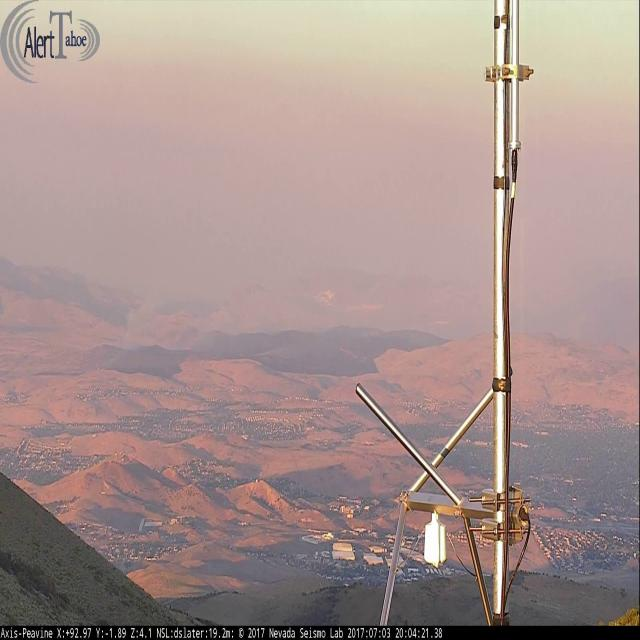smoke: (99, 276, 216, 374), (255, 316, 346, 362)
